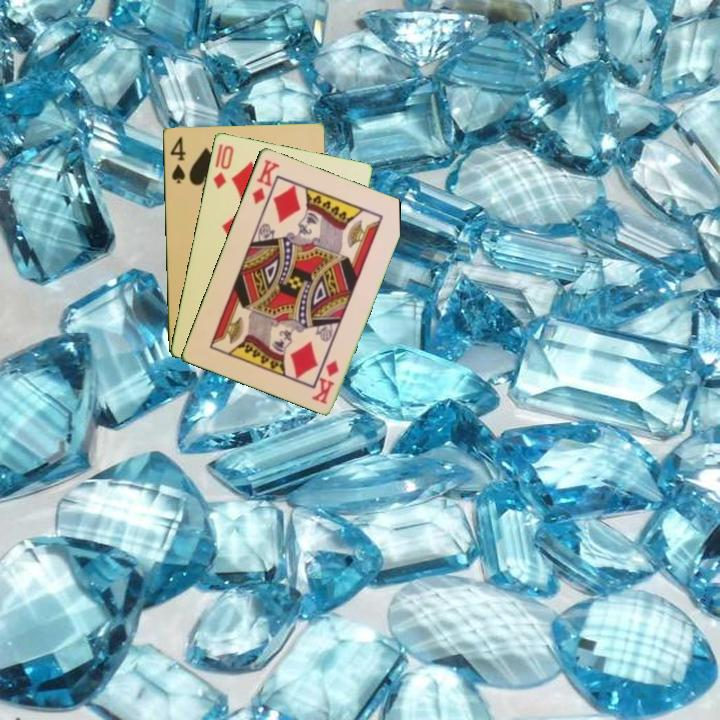10d: (209, 142, 236, 191)
4s: (166, 133, 188, 186)
Kd: (248, 156, 282, 207), (309, 356, 341, 407)
